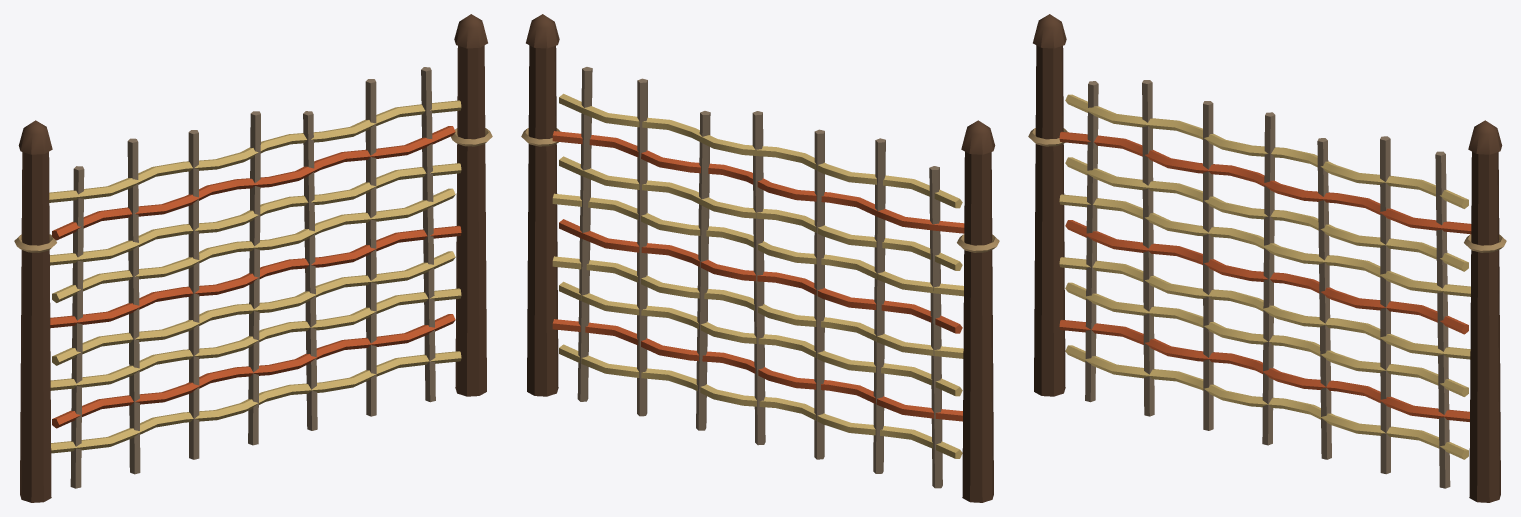
The model's file is deco_fence_straight.fbx.
3 views of the same model, side by side, from view 1: azimuth 30°, elevation 25°; view 2: azimuth 150°, elevation 25°; view 3: azimuth 330°, elevation 25° (orthographic).
Parts seen in each view (by area): view 1: Fence_Straight_Panel, Fence_Straight_Posts; view 2: Fence_Straight_Panel, Fence_Straight_Posts; view 3: Fence_Straight_Panel, Fence_Straight_Posts.
Boxes of the visible parts, x1,y1,x2,y2 form: Fence_Straight_Panel: [49, 67, 461, 488]; Fence_Straight_Posts: [14, 14, 492, 502]; Fence_Straight_Panel: [552, 67, 964, 488]; Fence_Straight_Posts: [521, 14, 999, 502]; Fence_Straight_Panel: [1059, 80, 1471, 488]; Fence_Straight_Posts: [1028, 14, 1506, 502].
Bounding box in the file's own units: 217 × 165 × 16.36.
